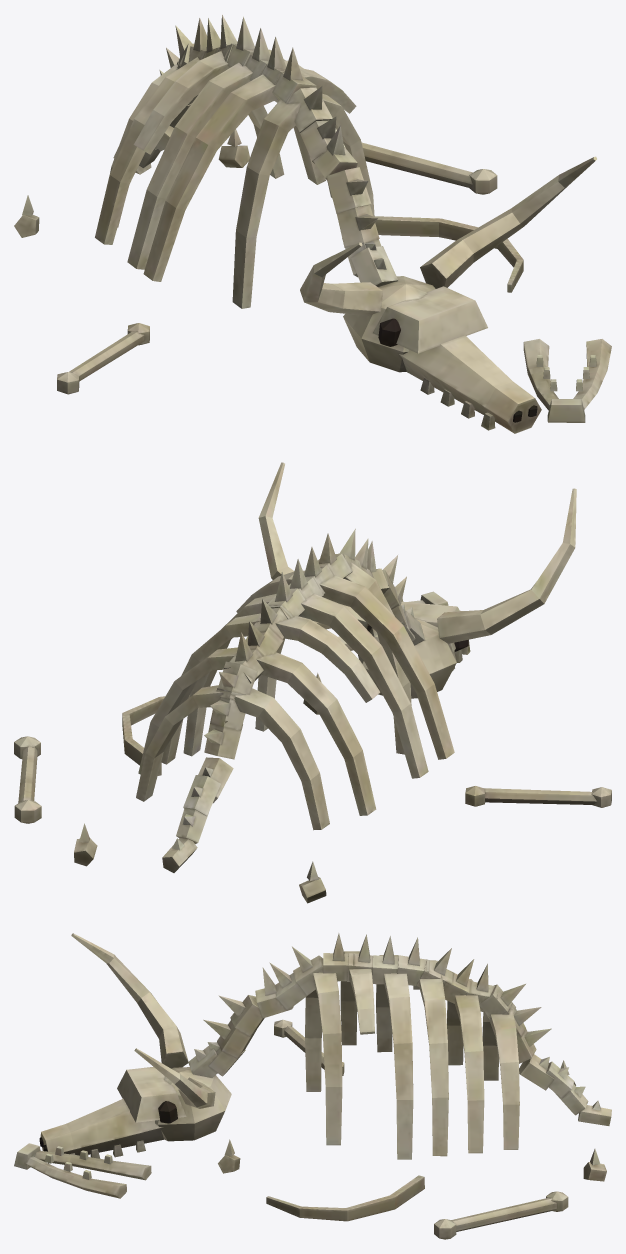
The model's file is bones.glb.
3 renders of one model, top to bottom at view 1: azimuth 30°, elevation 25°; view 2: azimuth 150°, elevation 25°; view 3: azimuth 270°, elevation 25°, orthographic. The views are drawn at different scales.
Visible parts, largest first — view 1: Static_Mesh; view 2: Static_Mesh; view 3: Static_Mesh.
Boxes of the visible parts, bbox=[...] form: Static_Mesh: bbox=[14, 14, 611, 433]; Static_Mesh: bbox=[14, 462, 611, 903]; Static_Mesh: bbox=[14, 933, 611, 1239].
Size of the model in its own units: 2.38 by 1.11 by 2.87.
Materials: 1 (1 with a texture image).
